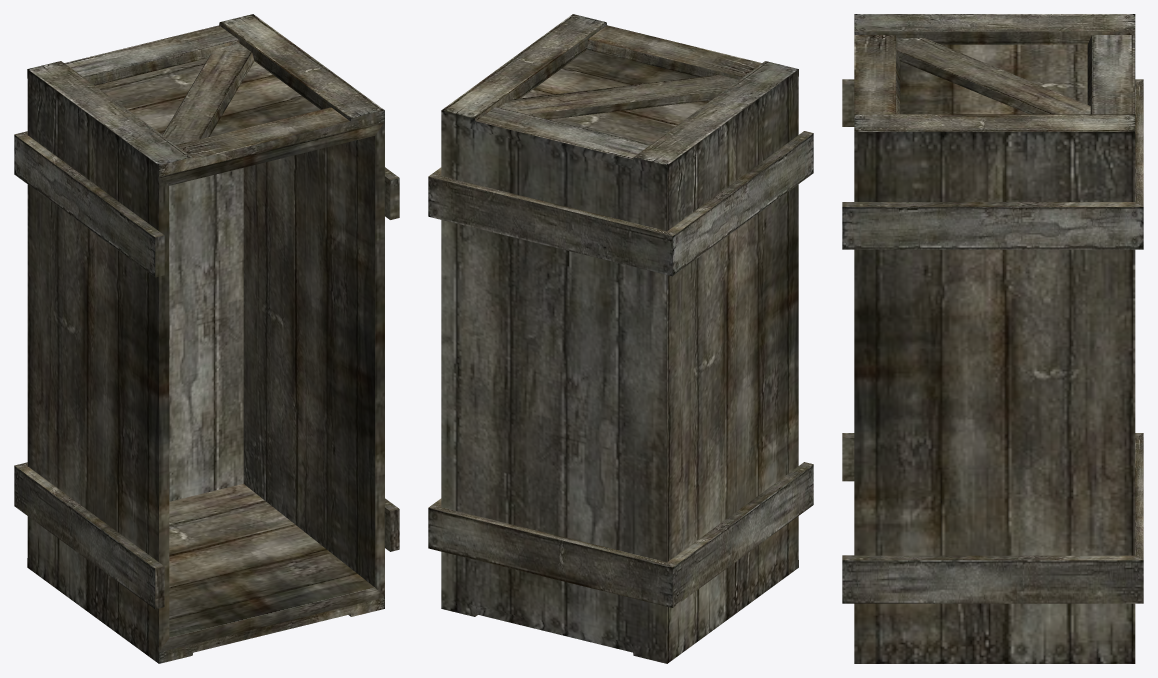
The model's file is crate02.glb.
The picture shows the model from 3 angles, left to right: view 1: azimuth 30°, elevation 25°; view 2: azimuth 150°, elevation 25°; view 3: azimuth 270°, elevation 25°; orthographic projection. The views are drawn at different scales.
Bounding box in the file's own units: 26.02 × 50.66 × 25.97.
1 material, 1 textured.
